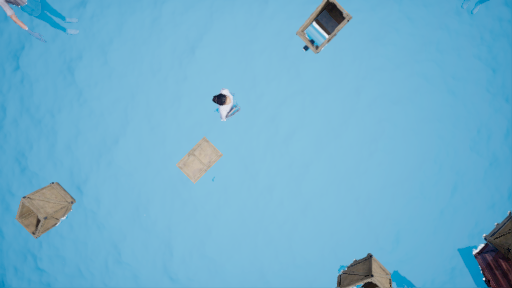person: (198, 87, 249, 128)
